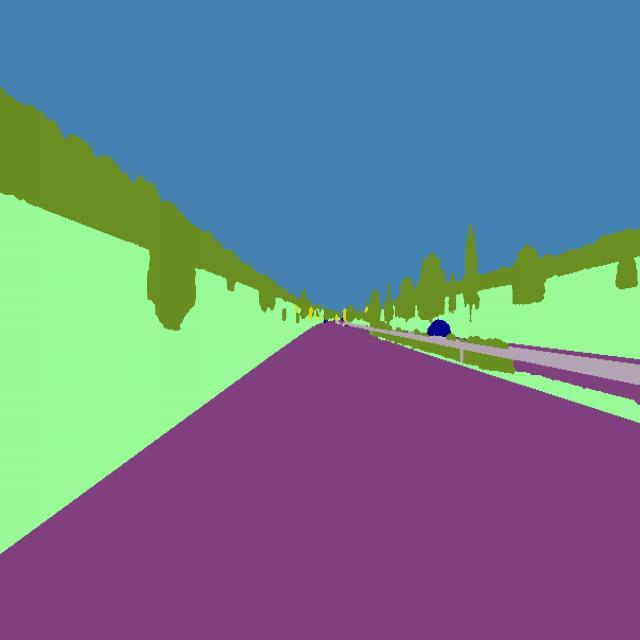safe: (424, 314, 456, 340)
